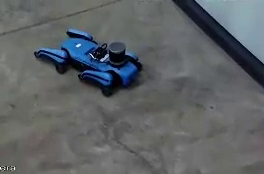robot dog: (32, 24, 150, 98)
